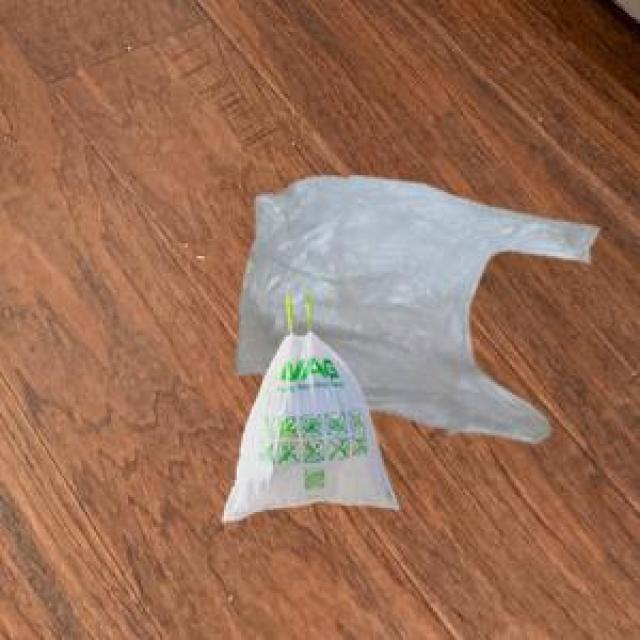plastic: (214, 149, 604, 584)
